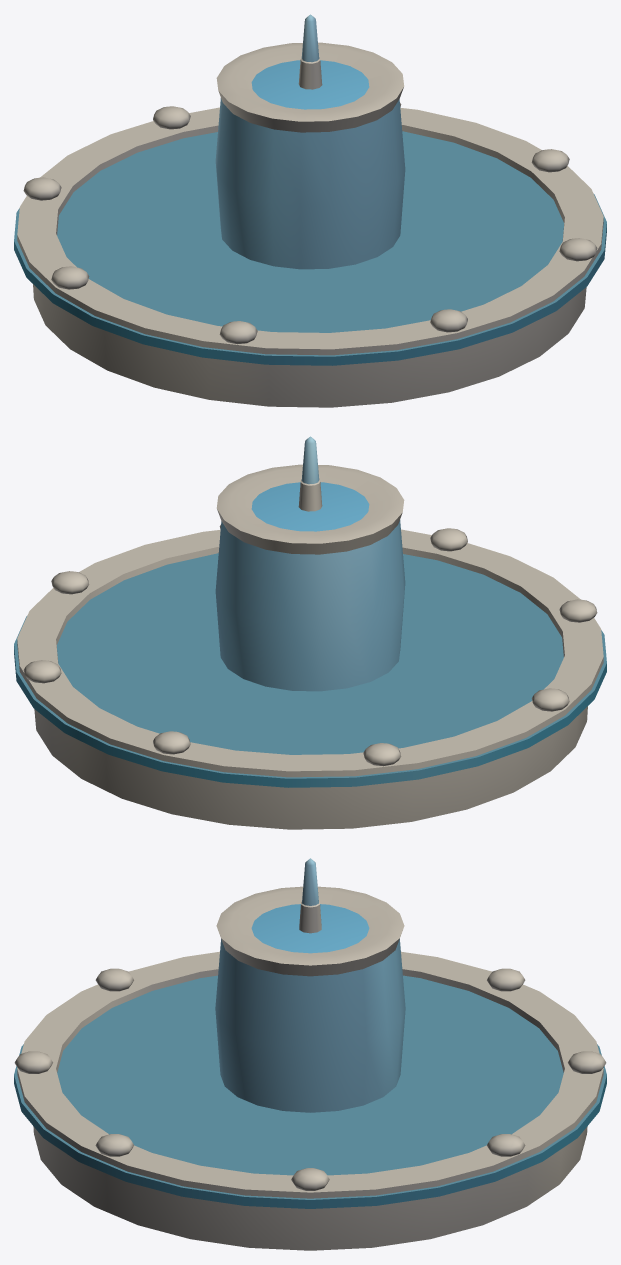
Rendered from Fountain.fbx.
3 renders of one model, top to bottom at view 1: azimuth 30°, elevation 25°; view 2: azimuth 150°, elevation 25°; view 3: azimuth 270°, elevation 25°, orthographic.
Visible parts, largest first — view 1: SM_Yard_Fountain, SM_Yard_Fountain_Water; view 2: SM_Yard_Fountain, SM_Yard_Fountain_Water; view 3: SM_Yard_Fountain, SM_Yard_Fountain_Water.
Boxes of the visible parts, bbox=[...] form: SM_Yard_Fountain: bbox=[14, 42, 606, 407]; SM_Yard_Fountain_Water: bbox=[215, 14, 405, 269]; SM_Yard_Fountain: bbox=[14, 464, 606, 829]; SM_Yard_Fountain_Water: bbox=[215, 436, 405, 691]; SM_Yard_Fountain: bbox=[14, 886, 606, 1250]; SM_Yard_Fountain_Water: bbox=[215, 858, 405, 1112].
Size of the model in its own units: 10.72 by 5.5 by 10.72.
